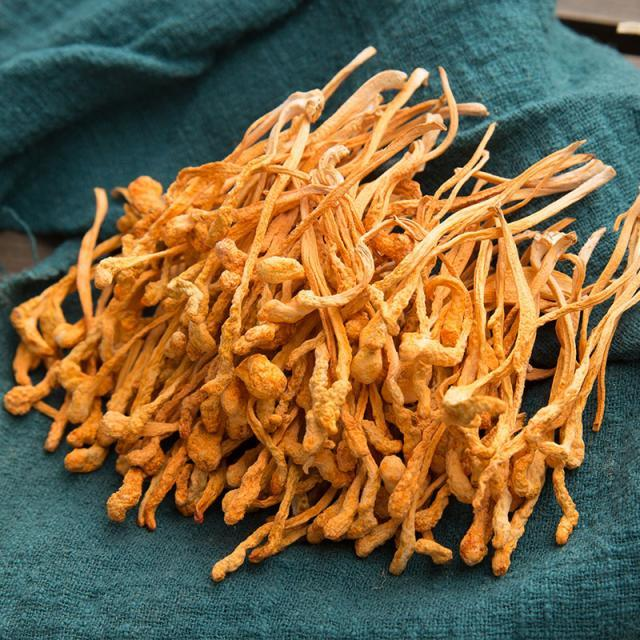Cordyceps militaris: (1, 49, 640, 579)
